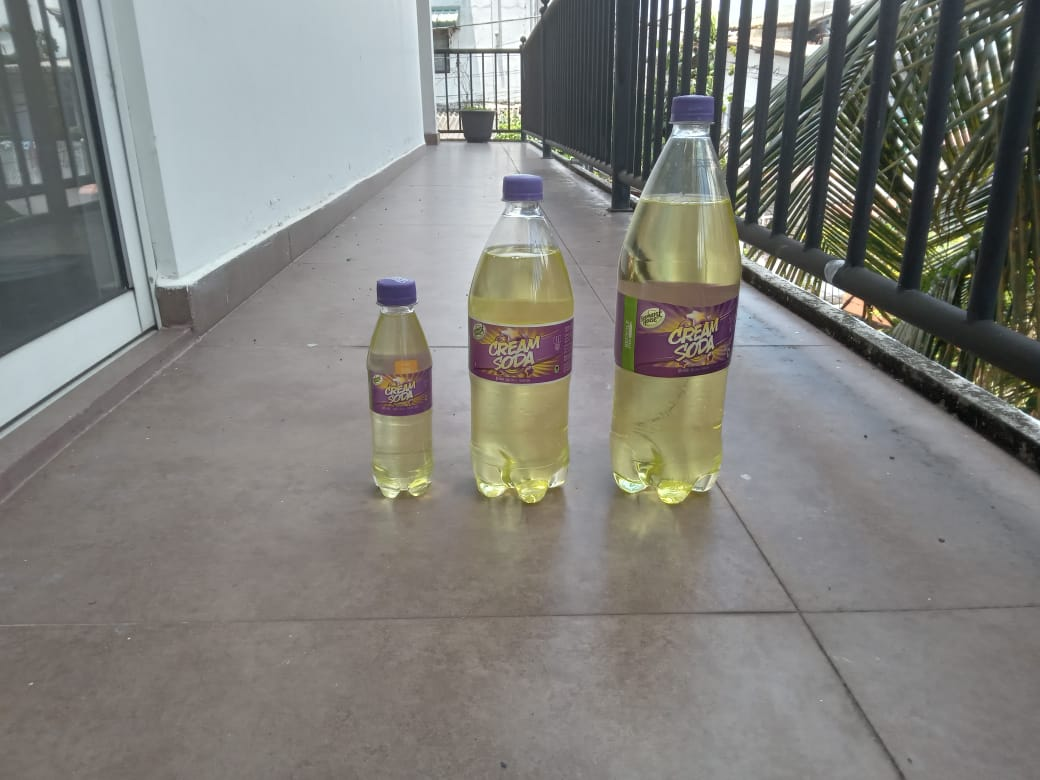L: (609, 94, 744, 506), (734, 310, 744, 312)
M: (465, 173, 573, 508)
Xs: (367, 280, 435, 500)
